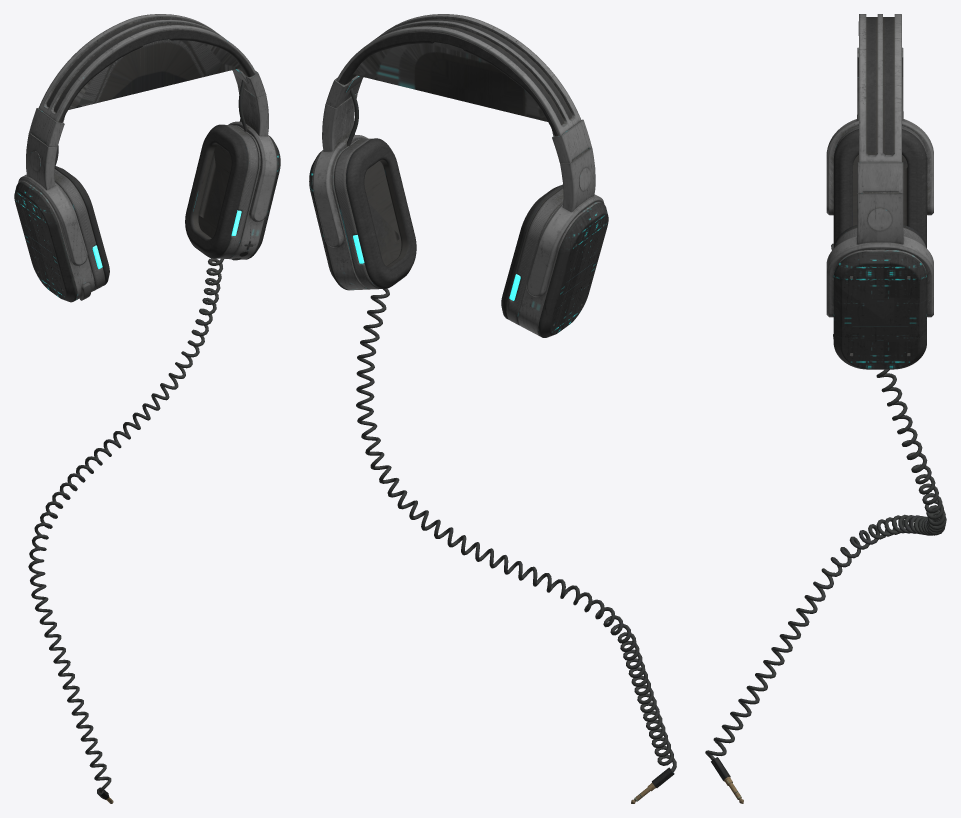
The model's file is headphones_1_sf.fbx.
3 views of the same model, side by side, from view 1: azimuth 30°, elevation 25°; view 2: azimuth 150°, elevation 25°; view 3: azimuth 270°, elevation 25° (orthographic). The views are drawn at different scales.
Parts seen in each view (by area): view 1: Headphones.001_low, Headphones_low, Headphones.002_low, Headphones.014_low, Headphones.003_low, Headphones.004_low, Headphones.012_low, Headphones.006_low, Headphones.005_low; view 2: Headphones.001_low, Headphones_low, Headphones.002_low, Headphones.014_low, Headphones.003_low, Headphones.004_low, Headphones.012_low, Headphones.006_low, Headphones.005_low; view 3: Headphones.003_low, Headphones.014_low, Headphones.002_low, Headphones_low, Headphones.001_low, Headphones.012_low, Headphones.005_low, Headphones.004_low, Headphones.011_low.
Part boxes in pixels (x1,y1,x2,y2): Headphones.001_low: (32,14,256,144); Headphones_low: (54,124,247,285); Headphones.002_low: (18,84,277,265); Headphones.014_low: (28,258,223,793); Headphones.003_low: (14,136,280,302); Headphones.004_low: (54,124,258,290); Headphones.012_low: (46,18,254,122); Headphones.006_low: (21,125,264,300); Headphones.005_low: (29,69,265,146); Headphones.001_low: (336,14,588,161); Headphones_low: (346,138,563,319); Headphones.002_low: (312,93,604,297); Headphones.014_low: (356,288,676,771); Headphones.003_low: (309,150,608,337); Headphones.004_low: (334,138,563,325); Headphones.012_low: (339,19,571,136); Headphones.006_low: (327,139,601,336); Headphones.005_low: (326,75,591,163); Headphones.003_low: (833,251,926,369); Headphones.014_low: (705,369,946,759); Headphones.002_low: (826,77,933,317); Headphones_low: (833,129,926,248); Headphones.001_low: (858,14,901,193); Headphones.012_low: (866,17,894,154); Headphones.005_low: (857,47,903,193); Headphones.004_low: (833,126,926,247); Headphones.011_low: (867,208,892,230).
Size of the model in its own units: 448 by 1198 by 316.
